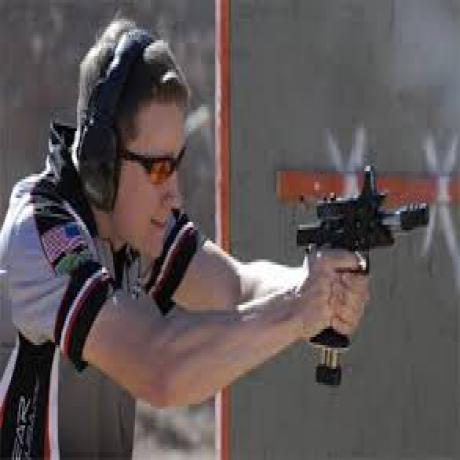Guns: (296, 164, 431, 395)
